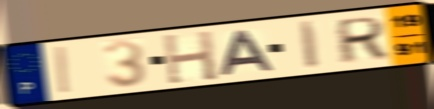3: (104, 37, 148, 91)
A: (219, 28, 278, 77)
H: (160, 28, 220, 86)
I: (297, 19, 322, 71), (55, 44, 74, 97)
R: (336, 14, 389, 66)
